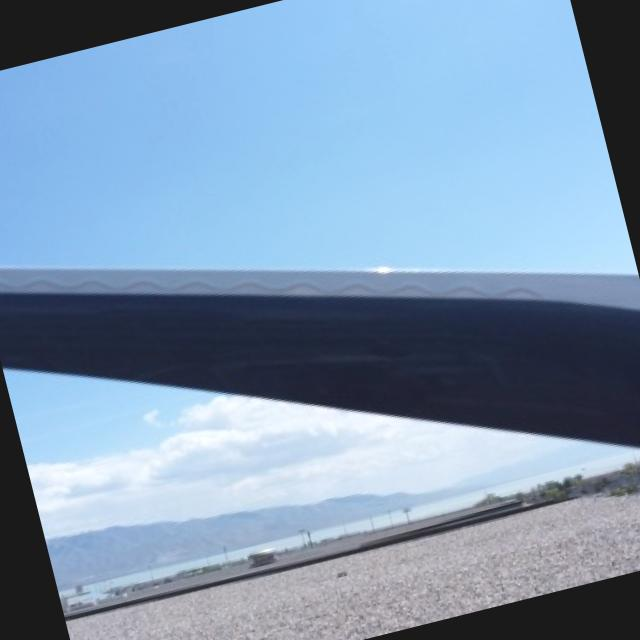healthy: (0, 267, 640, 442)
